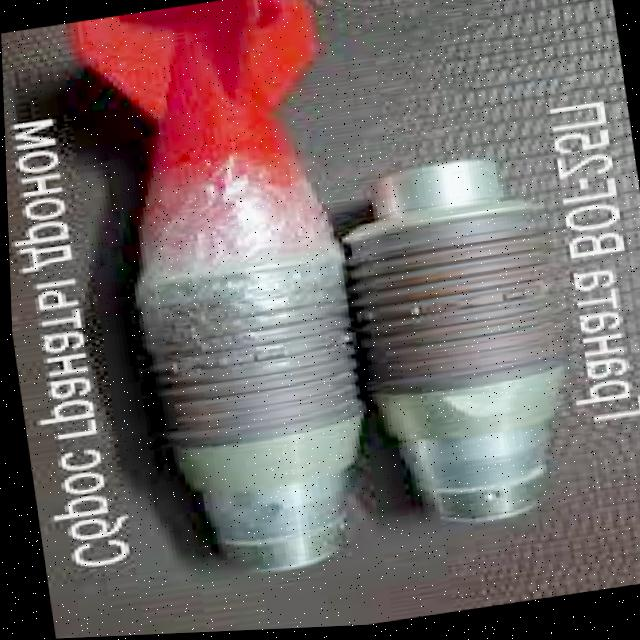grenade: (64, 0, 394, 596), (325, 148, 585, 542)
